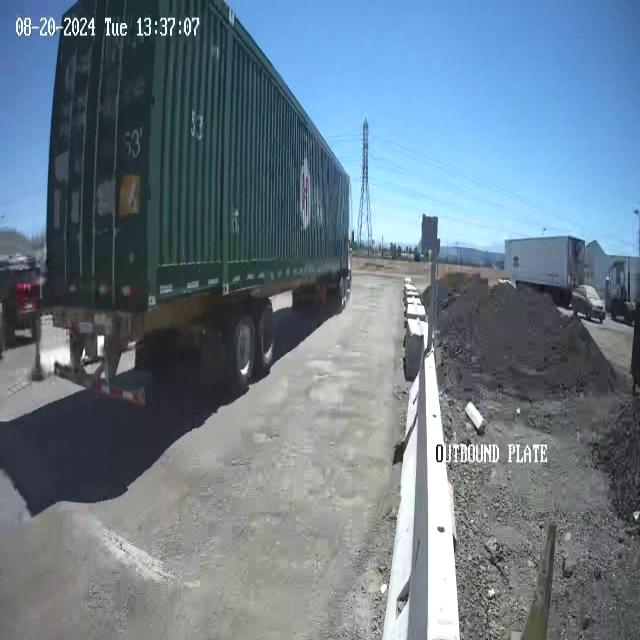CONTAINER: (43, 1, 349, 305)
